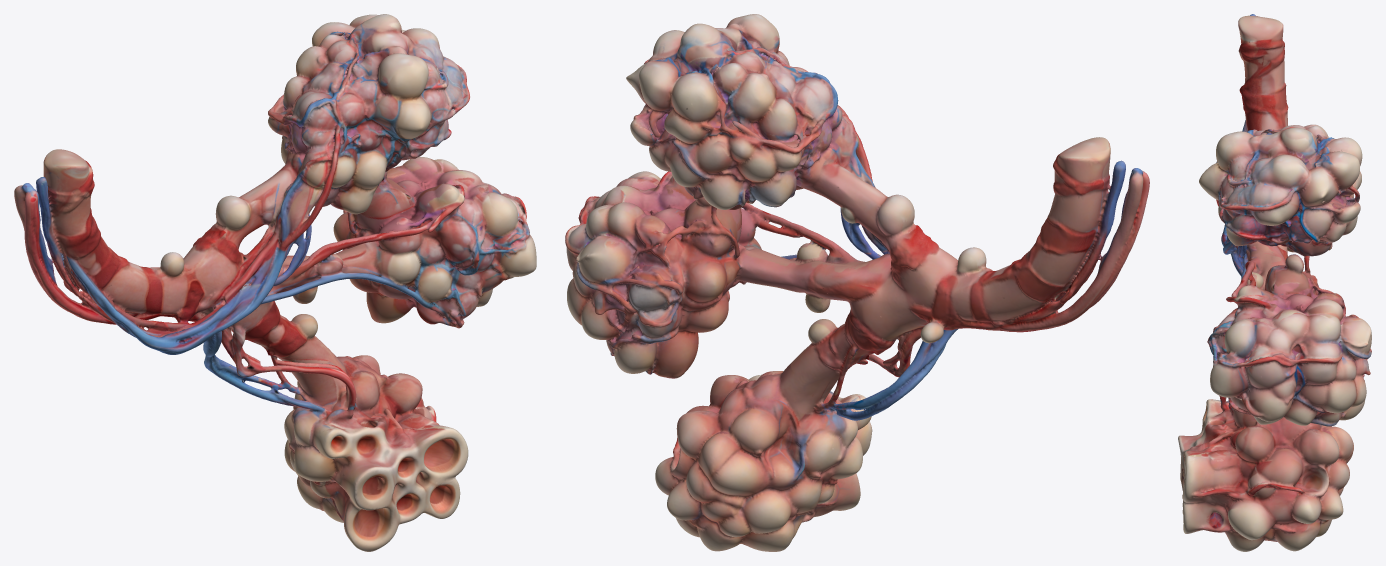
Rendered from Alveoli.glb.
3 renders of one model, left to right at view 1: azimuth 30°, elevation 25°; view 2: azimuth 150°, elevation 25°; view 3: azimuth 270°, elevation 25°, orthographic. The views are drawn at different scales.
Parts seen in each view (by area): view 1: Mesh_0; view 2: Mesh_0; view 3: Mesh_0.
Part boxes in pixels (left/top/right/bottom): Mesh_0: left=14, top=14, right=536, bottom=551; Mesh_0: left=565, top=14, right=1149, bottom=551; Mesh_0: left=1178, top=14, right=1371, bottom=551.
Bounding box in the file's own units: 1.99 × 1.8 × 0.739.
Materials: 1 (1 with a texture image).
